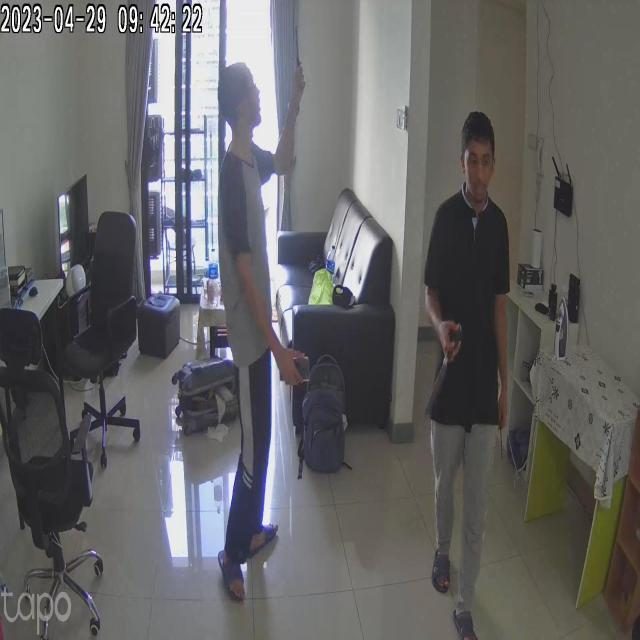Knife: (286, 22, 316, 78)
